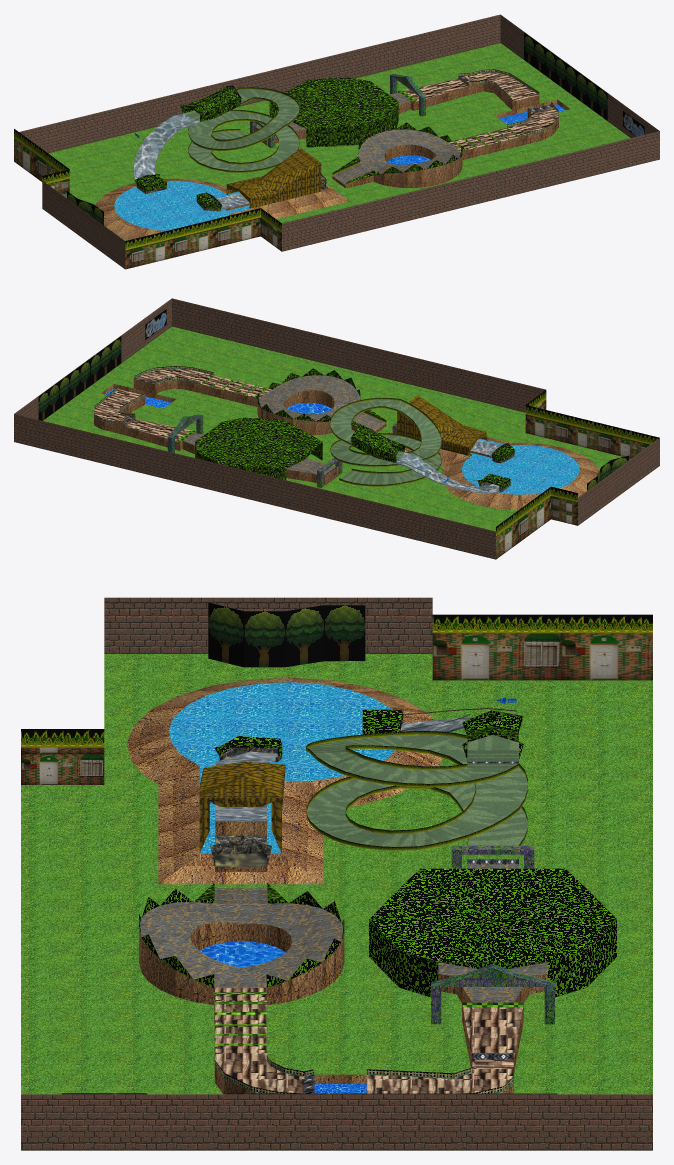
The picture shows the model from 3 angles, top to bottom: view 1: azimuth 30°, elevation 25°; view 2: azimuth 150°, elevation 25°; view 3: azimuth 270°, elevation 25°; orthographic projection. The views are drawn at different scales.
Visible parts, largest first — view 1: course-SKP--fondo, course-SKP--pasto.001, course-SKP--3botch, course-SKP--tierra, course-SKP--pastoboth, course-SKP--casa, course-SKP--2.001, course-SKP--zaguasemiboth, course-SKP--muroRboth, course-SKP--pisopiedra, course-SKP--pisomadera.001, course-SKP--1.001 (+4 smaller); view 2: course-SKP--fondo, course-SKP--pasto.001, course-SKP--3botch, course-SKP--tierra, course-SKP--casa, course-SKP--pastoboth, course-SKP--zaguasemiboth, course-SKP--2.001, course-SKP--pisopiedra, course-SKP--1.001, course-SKP--pisomadera.001, course-SKP--muroRboth (+4 smaller); view 3: course-SKP--pasto.001, course-SKP--fondo, course-SKP--3botch, course-SKP--tierra, course-SKP--pastoboth, course-SKP--casa, course-SKP--zaguasemiboth, course-SKP--pisopiedra, course-SKP--2.001, course-SKP--pisomadera.001, course-SKP--1.001, course-SKP--muroRboth (+7 smaller).
Part boxes in pixels (left/top/right/bottom): course-SKP--fondo: left=19, top=14, right=659, bottom=268; course-SKP--pasto.001: left=48, top=43, right=630, bottom=240; course-SKP--3botch: left=134, top=77, right=464, bottom=208; course-SKP--tierra: left=95, top=76, right=569, bottom=240; course-SKP--pastoboth: left=183, top=89, right=299, bottom=170; course-SKP--casa: left=14, top=138, right=281, bottom=269; course-SKP--2.001: left=14, top=87, right=359, bottom=250; course-SKP--zaguasemiboth: left=114, top=181, right=251, bottom=230; course-SKP--muroRboth: left=226, top=148, right=321, bottom=208; course-SKP--pisopiedra: left=256, top=93, right=519, bottom=185; course-SKP--pisomadera.001: left=403, top=72, right=558, bottom=151; course-SKP--1.001: left=67, top=32, right=607, bottom=225; course-SKP--fondo: left=14, top=298, right=659, bottom=559; course-SKP--pasto.001: left=43, top=326, right=630, bottom=531; course-SKP--3botch: left=195, top=368, right=514, bottom=490; course-SKP--tierra: left=94, top=379, right=599, bottom=510; course-SKP--casa: left=496, top=399, right=649, bottom=559; course-SKP--pastoboth: left=330, top=399, right=441, bottom=484; course-SKP--zaguasemiboth: left=461, top=438, right=579, bottom=494; course-SKP--2.001: left=330, top=390, right=659, bottom=535; course-SKP--pisopiedra: left=183, top=375, right=385, bottom=475; course-SKP--1.001: left=38, top=336, right=629, bottom=490; course-SKP--pisomadera.001: left=94, top=368, right=271, bottom=441; course-SKP--muroRboth: left=397, top=395, right=487, bottom=455; course-SKP--pasto.001: left=21, top=654, right=652, bottom=1094; course-SKP--fondo: left=21, top=597, right=652, bottom=1150; course-SKP--3botch: left=139, top=709, right=616, bottom=997; course-SKP--tierra: left=127, top=677, right=547, bottom=1094; course-SKP--pastoboth: left=306, top=734, right=527, bottom=846; course-SKP--casa: left=21, top=633, right=652, bottom=784; course-SKP--zaguasemiboth: left=169, top=682, right=395, bottom=853; course-SKP--pisopiedra: left=140, top=864, right=547, bottom=1002; course-SKP--2.001: left=21, top=614, right=652, bottom=901; course-SKP--pisomadera.001: left=214, top=988, right=522, bottom=1093; course-SKP--1.001: left=208, top=602, right=556, bottom=1094; course-SKP--muroRboth: left=199, top=761, right=285, bottom=853.
Size of the model in its own units: 113647 by 14116 by 61086.
Materials: 21 (20 with a texture image).
